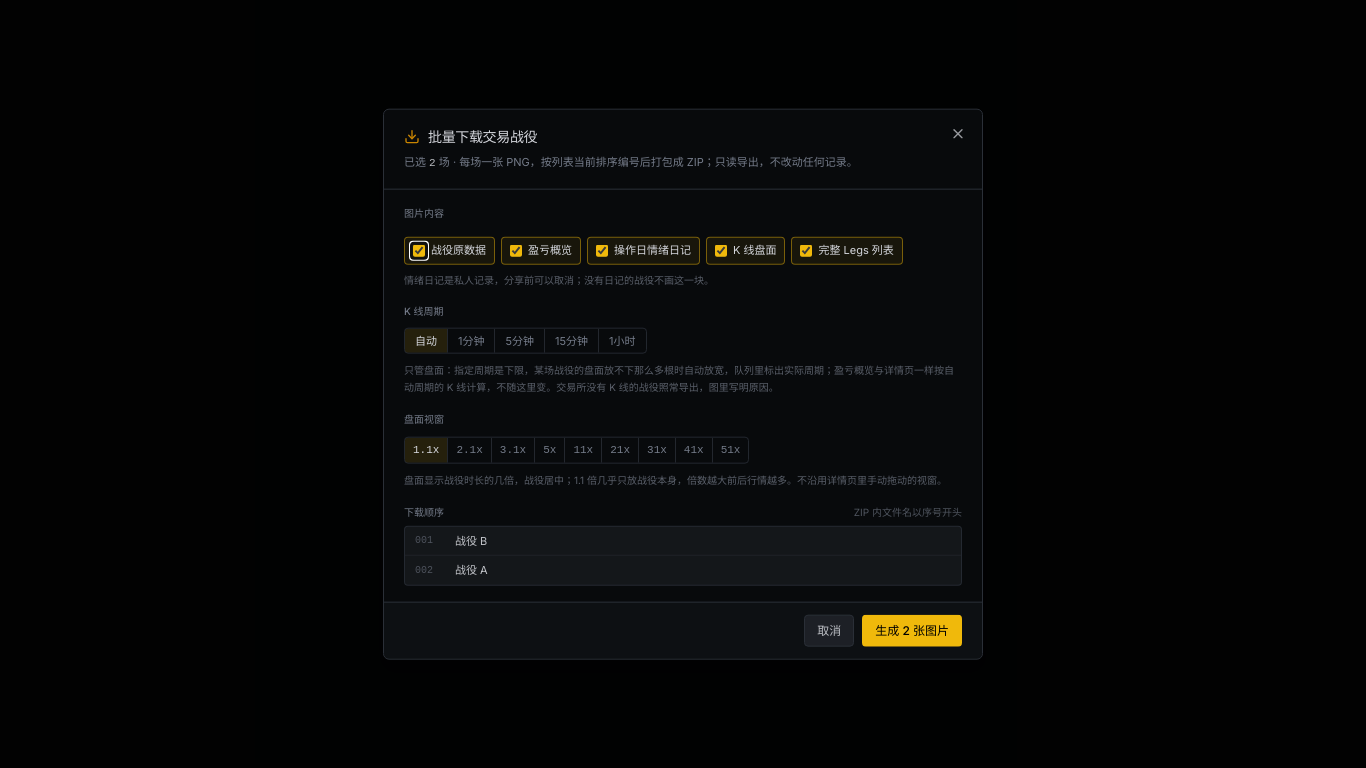
批量下载队列 › 只画盈亏概览、交易所又没有 K 线时，同样标「无 K 线」，进度区写峰值浮盈按已实现盈亏兜底（不写「盘面从略」）
The width and height of the screenshot is (1366, 768).
Click the checkbox labelled "K 线盘面". click: (721, 250)
box: x1=715 y1=244 x2=727 y2=256
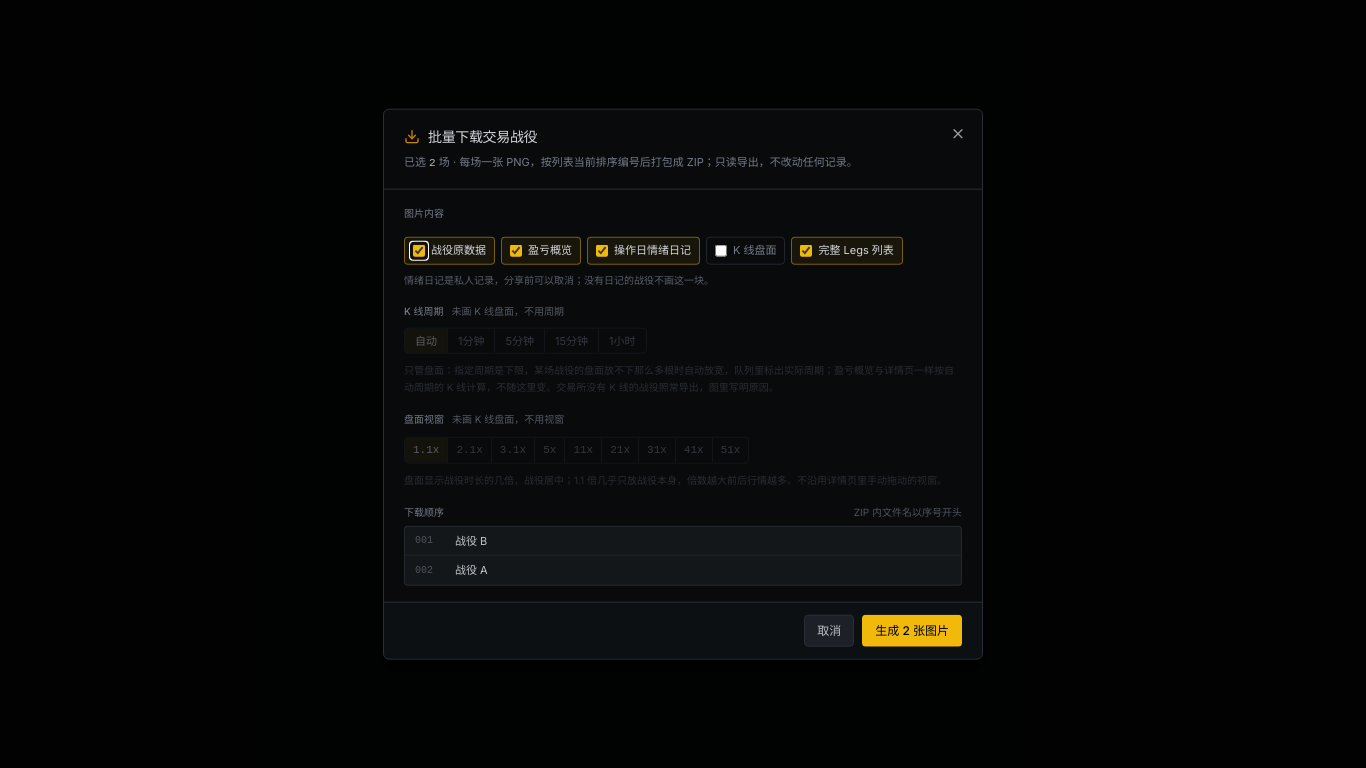
Click the button "生成 2 张图片". click: (912, 630)
box: x1=862 y1=614 x2=962 y2=646
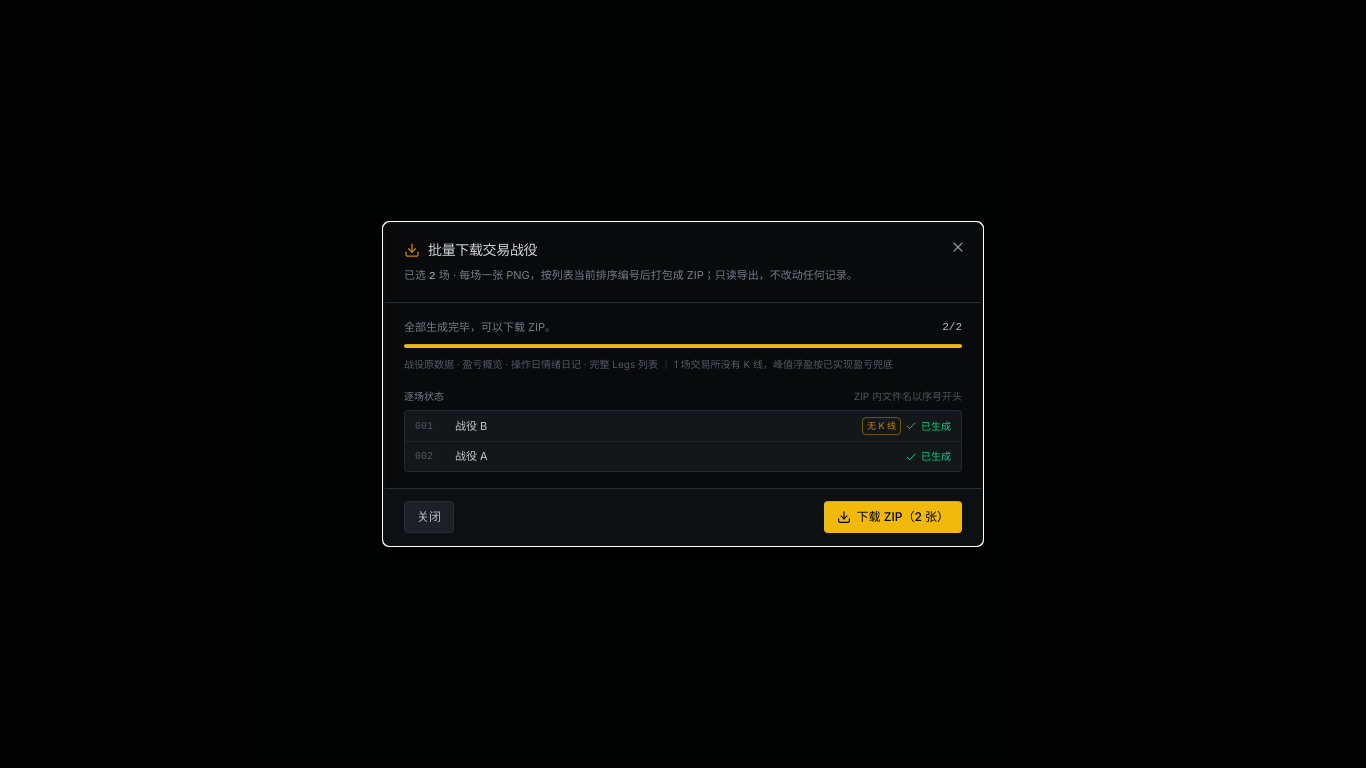
Check: the element with test id "campaign-batch-progress" does not show "盘面从略", box x1=404 y1=319 x2=962 y2=373
Check: the element with test id "campaign-batch-progress" shows "1 场交易所没有 K 线，峰值浮盈按已实现盈亏兜底", box x1=404 y1=319 x2=962 y2=373
